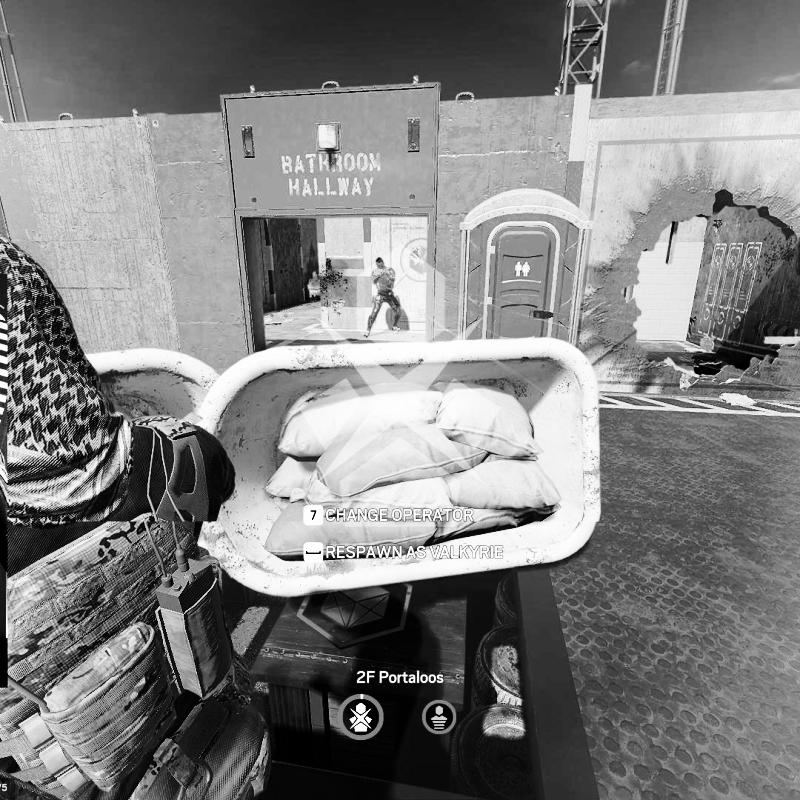Character: (0, 230, 271, 800), (364, 256, 404, 339)
Head: (374, 256, 386, 270)
